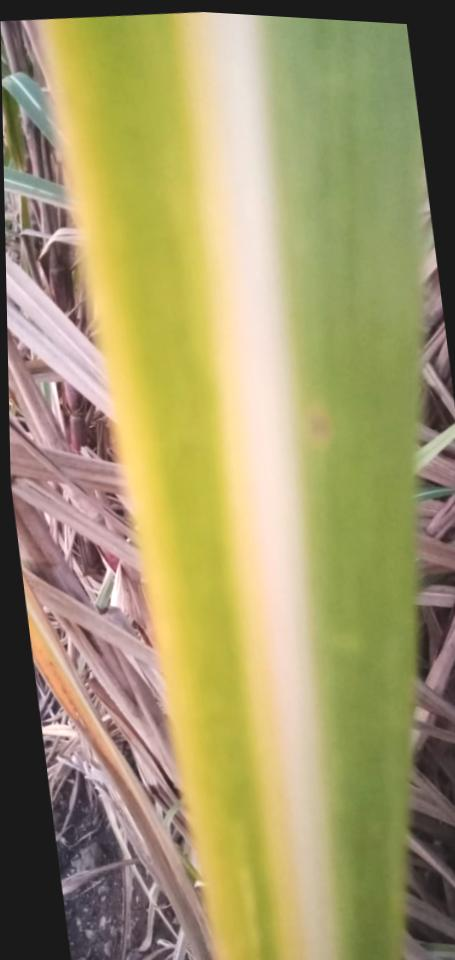Yellow: (38, 18, 245, 960), (182, 12, 308, 960)
